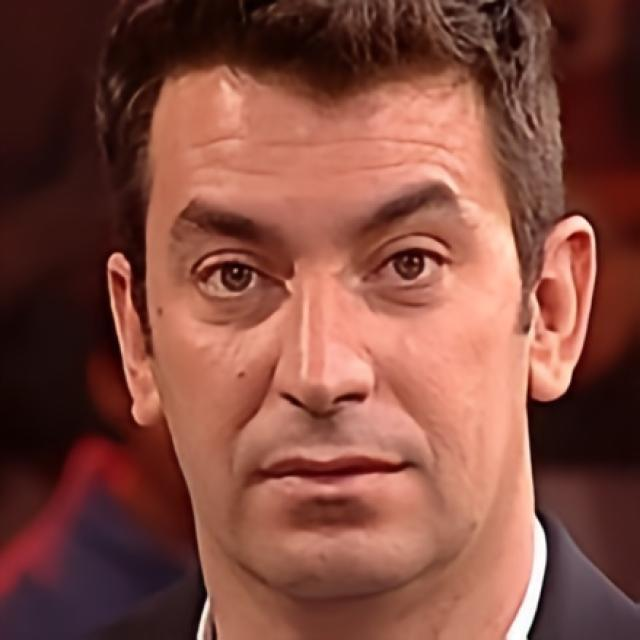surprise: (145, 62, 534, 599)
